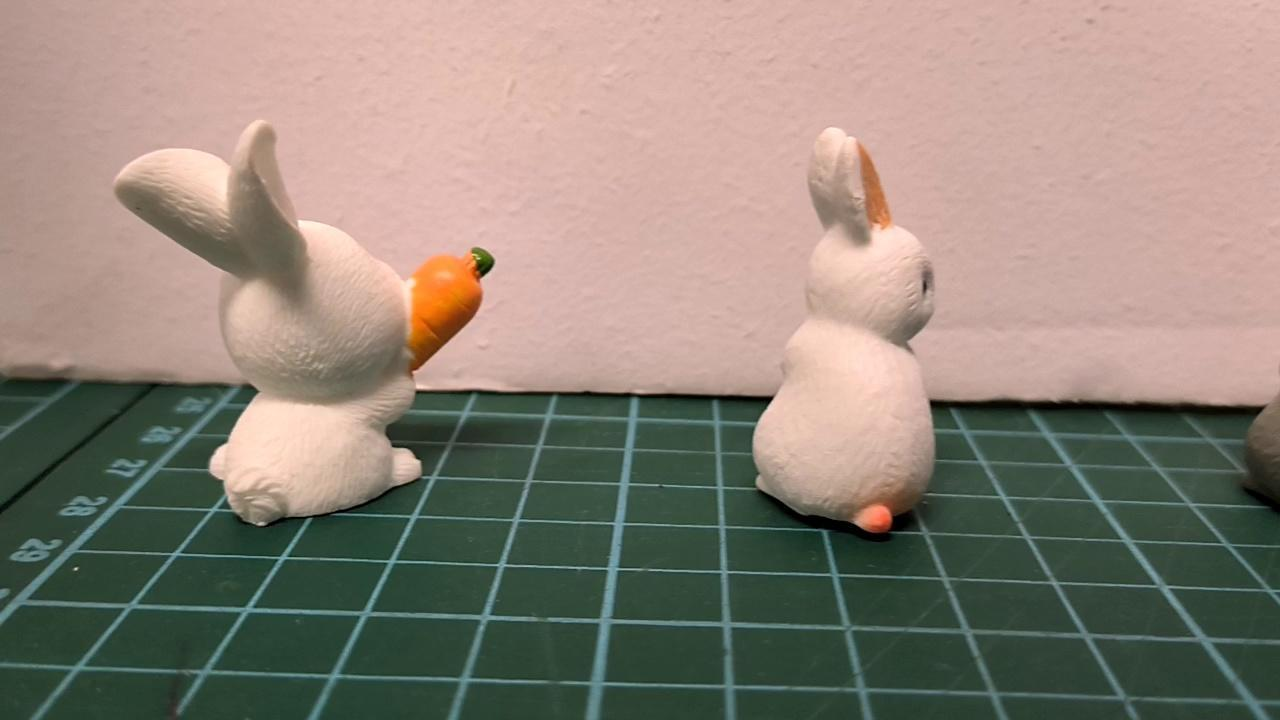pet: (111, 120, 423, 527), (749, 125, 940, 534)
